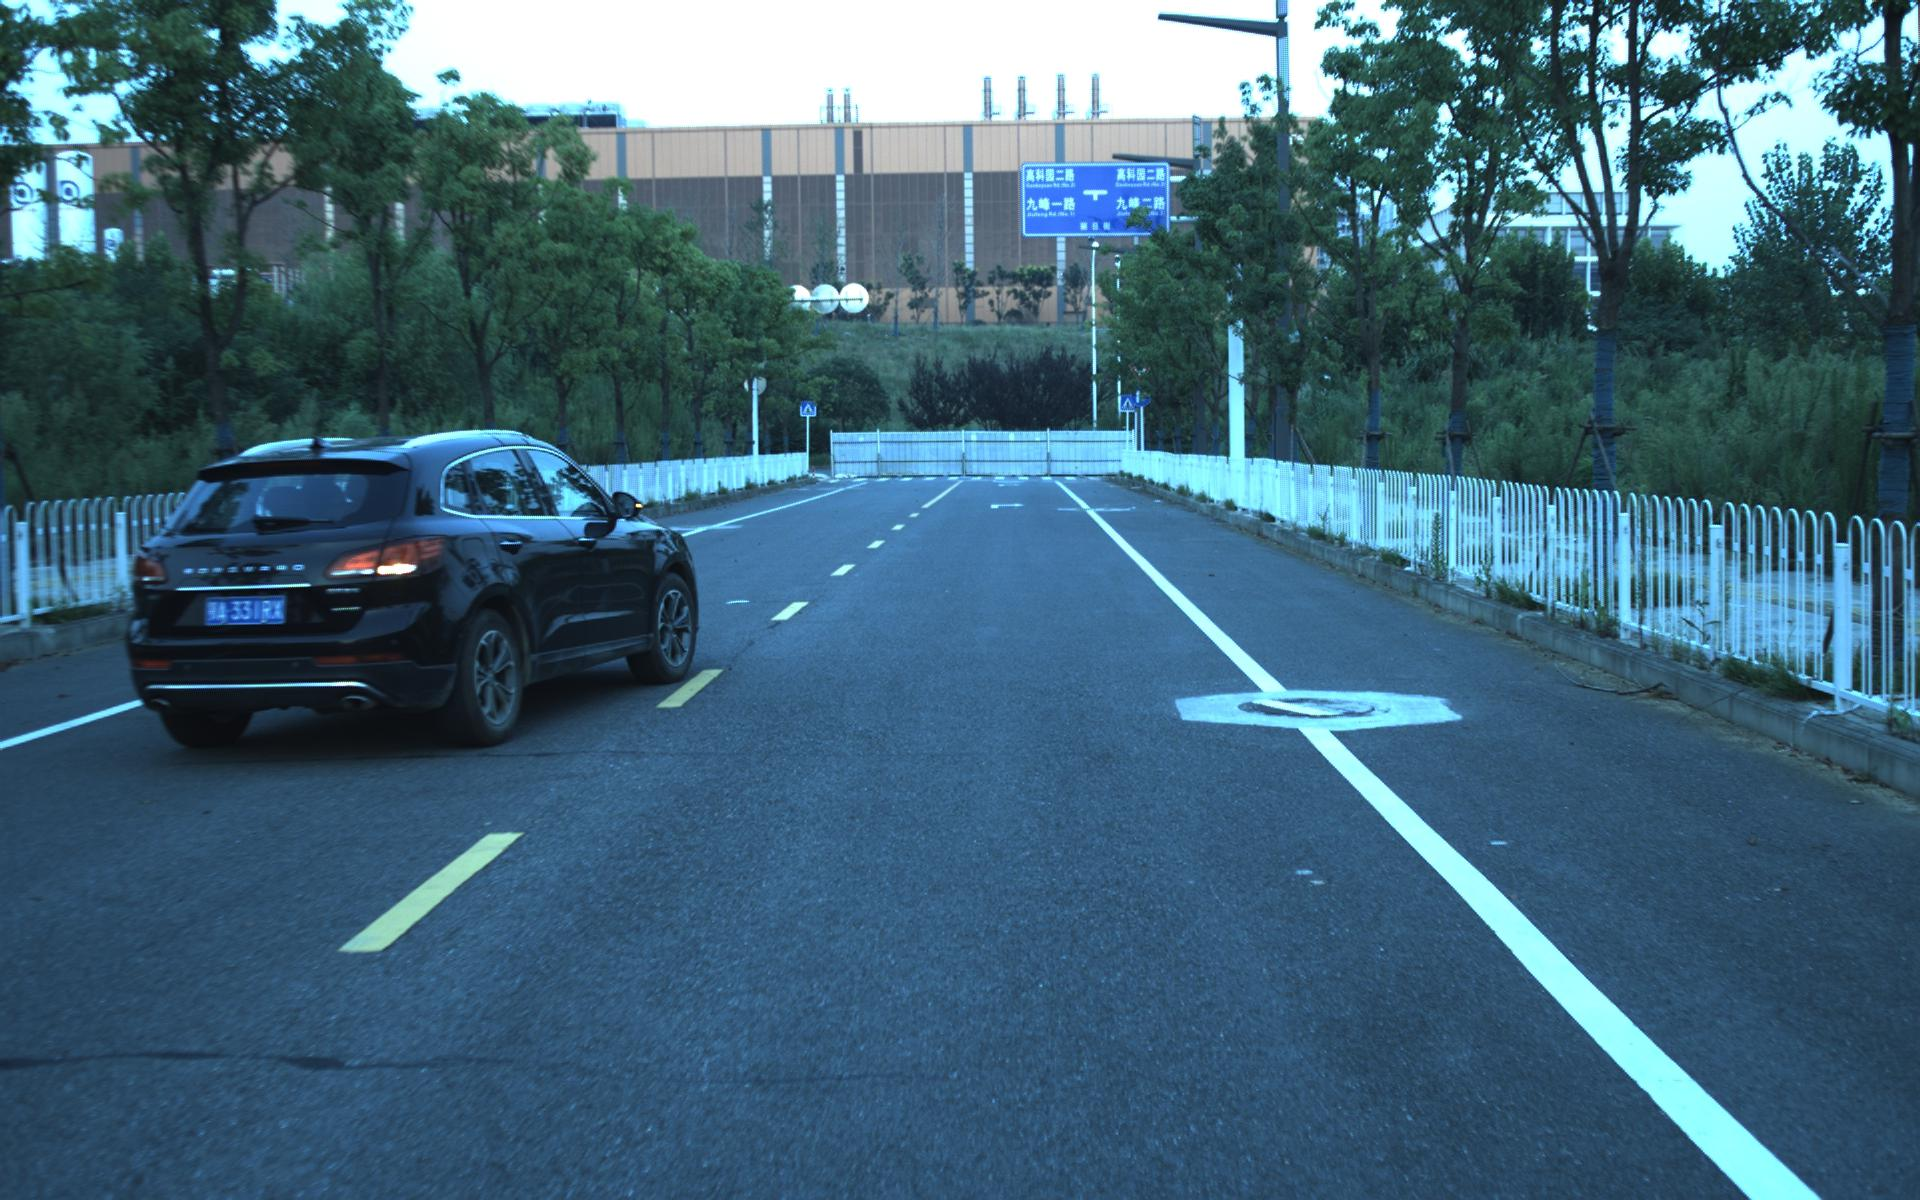Car: (104, 412, 699, 758)
